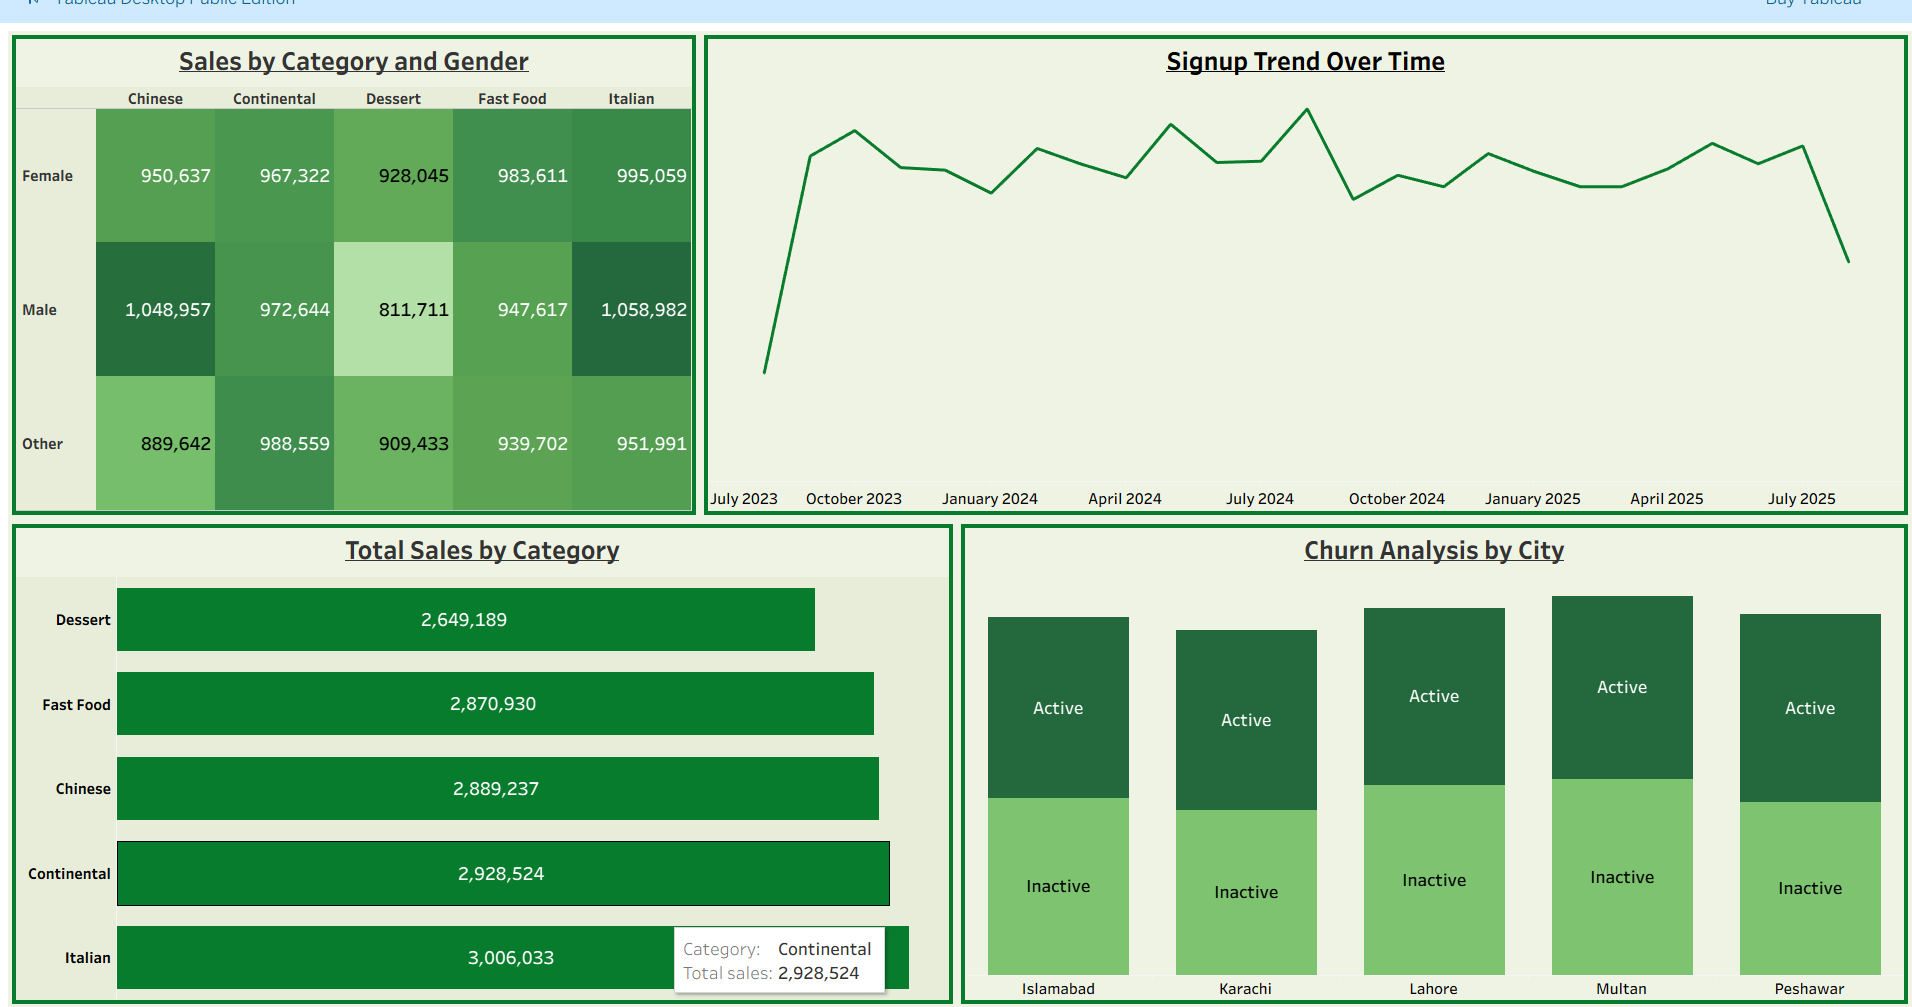

Layout of this report page (visuals, bound fields, positions):
{"tool":"tableau","page":{"name":"Dashboard 2","canvas":[1000,1000],"units":"permille","ordinal":1},"visuals":[{"type":"worksheet","title":"Sheet 28","mark":"Square","rows":["gender"],"cols":["category"],"box":[4.8,10,403.7,490]},{"type":"worksheet","title":"Sheet 23","mark":"Automatic","rows":["customer_id"],"cols":["signup_date"],"box":[408.6,10,586.6,490]},{"type":"worksheet","title":"Sheet 21","mark":"Automatic","rows":["customer_id"],"cols":["city"],"box":[4.8,500,424.9,490]},{"type":"worksheet","title":"Sheet 27","mark":"Automatic","rows":["category"],"cols":["Calculation_1436811705712640"],"box":[429.7,500,565.5,490]}]}

Visuals, with their boxes on the dashboard's canvas, which has no fixed pixel size, in thousandths of its width and height (x1, y1, x2, y2). These are canvas units, not pixel positions in the 1912x1007 screenshot, which may show the page scaled, cropped or inside an application window:
"Sheet 28" worksheet (Square marks): <box>5,10,408,500</box>
"Sheet 23" worksheet: <box>409,10,995,500</box>
"Sheet 21" worksheet: <box>5,500,430,990</box>
"Sheet 27" worksheet: <box>430,500,995,990</box>
